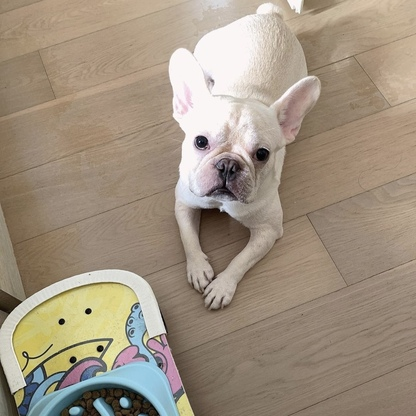bulldog: (166, 2, 323, 313)
